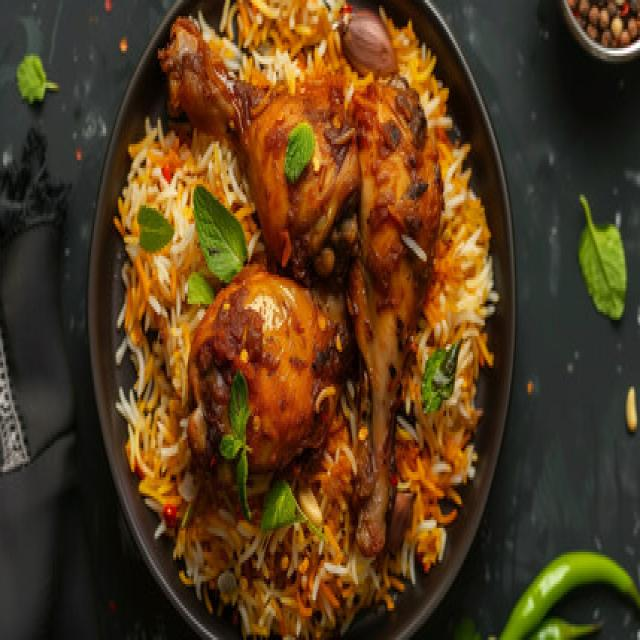BIRIYANI: (113, 0, 498, 637)
